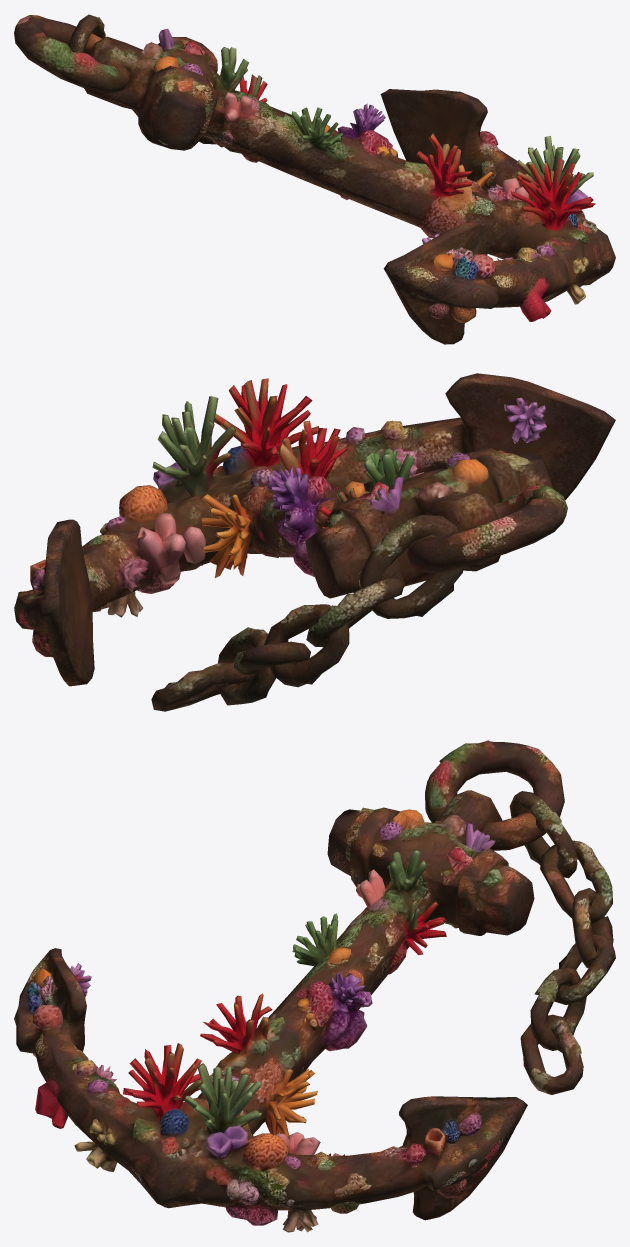
Rendered from anker.glb.
3 views of the same model, one above another, from view 1: azimuth 30°, elevation 25°; view 2: azimuth 150°, elevation 25°; view 3: azimuth 270°, elevation 25° (orthographic). The views are drawn at different scales.
Parts seen in each view (by area): view 1: tripo_node_4b4be61f-e43b-4592-a29f-3d1f39f2a3b4; view 2: tripo_node_4b4be61f-e43b-4592-a29f-3d1f39f2a3b4; view 3: tripo_node_4b4be61f-e43b-4592-a29f-3d1f39f2a3b4.
Boxes of the visible parts, bbox=[...] form: tripo_node_4b4be61f-e43b-4592-a29f-3d1f39f2a3b4: bbox=[14, 14, 615, 344]; tripo_node_4b4be61f-e43b-4592-a29f-3d1f39f2a3b4: bbox=[14, 373, 615, 711]; tripo_node_4b4be61f-e43b-4592-a29f-3d1f39f2a3b4: bbox=[14, 740, 615, 1232].
Size of the model in its own units: 0.8264 by 0.45 by 0.8904.
Materials: 1 (1 with a texture image).
